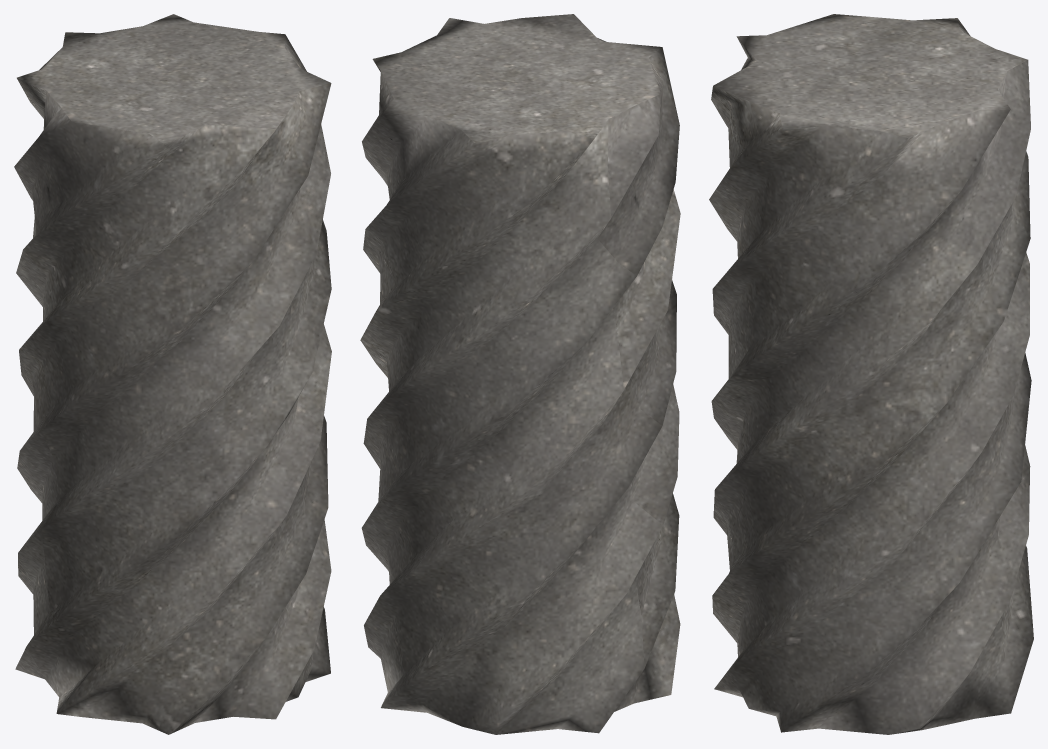
Rendered from SM_Pillar.fbx.
The picture shows the model from 3 angles, left to right: view 1: azimuth 30°, elevation 25°; view 2: azimuth 150°, elevation 25°; view 3: azimuth 270°, elevation 25°; orthographic projection. The views are drawn at different scales.
Parts seen in each view (by area): view 1: SM_Pillar_LOD0; view 2: SM_Pillar_LOD0; view 3: SM_Pillar_LOD0.
Boxes of the visible parts, bbox=[...] form: SM_Pillar_LOD0: bbox=[14, 14, 331, 734]; SM_Pillar_LOD0: bbox=[360, 14, 680, 734]; SM_Pillar_LOD0: bbox=[709, 14, 1033, 734].
Bounding box in the file's own units: 122 × 123 × 254.
